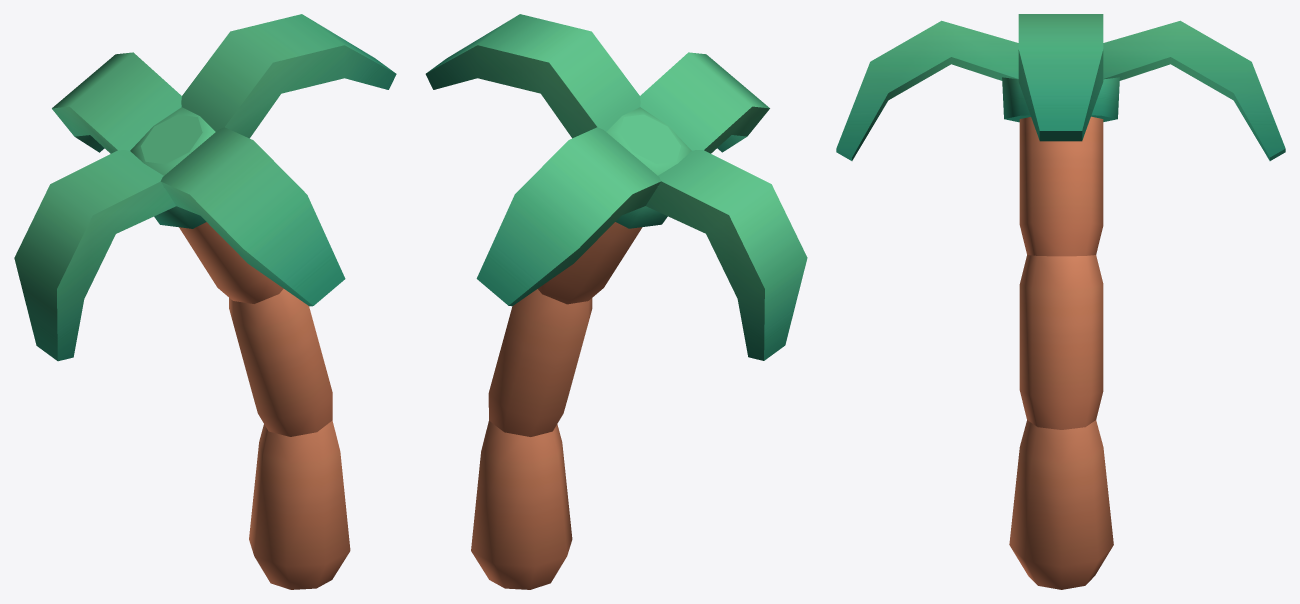
Rendered from kenney-pirate-palm-bend.glb.
The picture shows the model from 3 angles, left to right: view 1: azimuth 30°, elevation 25°; view 2: azimuth 150°, elevation 25°; view 3: azimuth 270°, elevation 25°; orthographic projection.
Parts seen in each view (by area): view 1: palm-bend; view 2: palm-bend; view 3: palm-bend.
Part boxes in pixels (x1=…): palm-bend: x1=14, y1=14, x2=396, y2=589; palm-bend: x1=425, y1=14, x2=807, y2=589; palm-bend: x1=836, y1=14, x2=1285, y2=589.
Bounding box in the file's own units: 2.88 × 4.25 × 3.22.
Materials: 1 (1 with a texture image).
